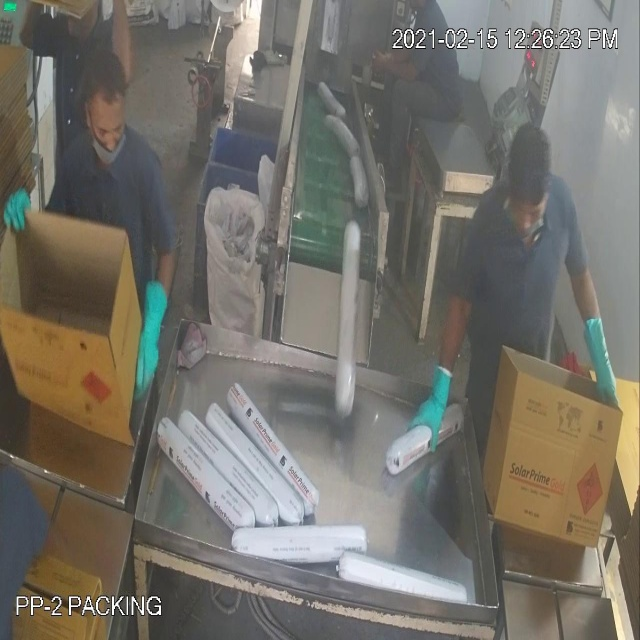Guantes: (403, 345, 458, 486), (127, 268, 167, 407), (582, 299, 618, 416)
Sin_guantes: (368, 45, 424, 97)
